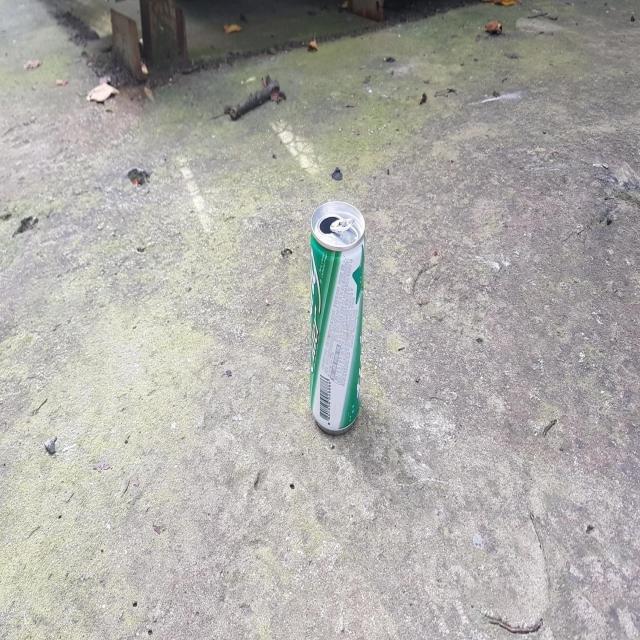can: (310, 200, 366, 433)
